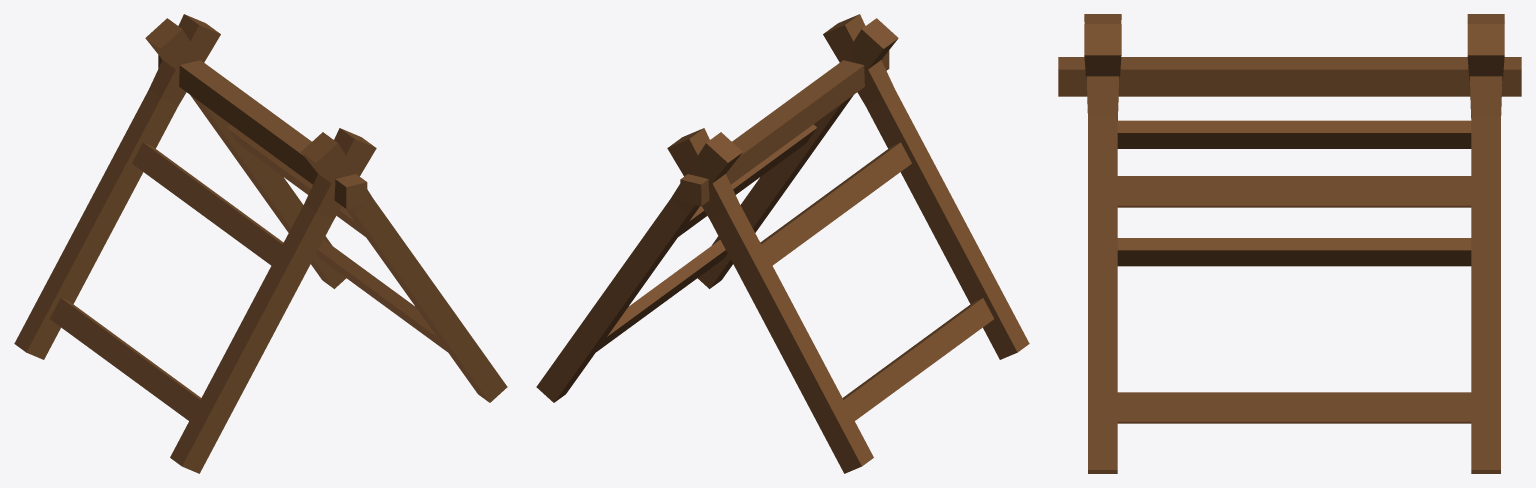
File: kenney_survival-kit__tent__meadow.fbx
3 views of the same model, side by side, from view 1: azimuth 30°, elevation 25°; view 2: azimuth 150°, elevation 25°; view 3: azimuth 270°, elevation 25° (orthographic). The views are drawn at different scales.
Parts seen in each view (by area): view 1: kenney_survival-kit__tent__meadow_wood; view 2: kenney_survival-kit__tent__meadow_wood; view 3: kenney_survival-kit__tent__meadow_wood.
Part boxes in pixels (x1,y1,x2,y2): kenney_survival-kit__tent__meadow_wood: (14, 14, 507, 473); kenney_survival-kit__tent__meadow_wood: (536, 14, 1029, 473); kenney_survival-kit__tent__meadow_wood: (1058, 14, 1521, 473).
Size of the model in its own units: 2 by 1.75 by 2.
1 material, 1 textured.
